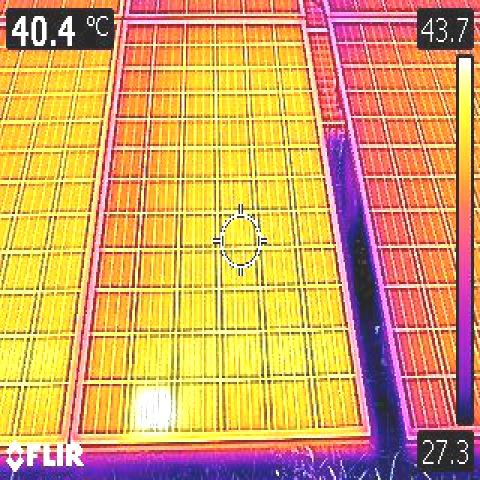fault: (129, 383, 175, 432)
